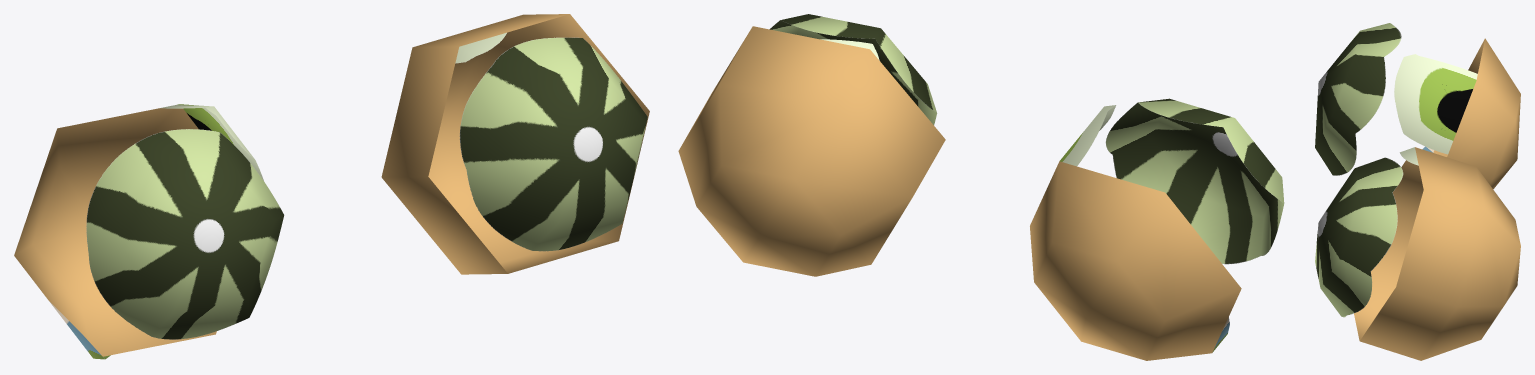
Rendered from potato_eye3.fbx.
The picture shows the model from 3 angles, left to right: view 1: azimuth 30°, elevation 25°; view 2: azimuth 150°, elevation 25°; view 3: azimuth 270°, elevation 25°; orthographic projection. The views are drawn at different scales.
Visible parts, largest first — view 1: eye3_pSphere3; view 2: eye3_pSphere3; view 3: eye3_pSphere3.
Boxes of the visible parts, x1,y1,x2,y2 form: eye3_pSphere3: (14,14,649,359); eye3_pSphere3: (678,14,1284,360); eye3_pSphere3: (1315,23,1520,360).
Bounding box in the file's own units: 1.14 × 0.4088 × 0.4465.
